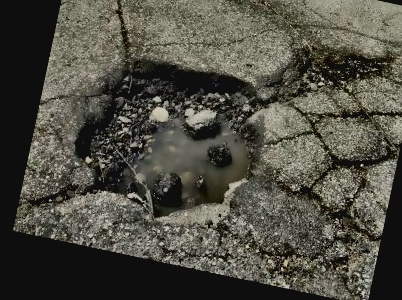pothole: (59, 43, 281, 237), (273, 35, 389, 120)
